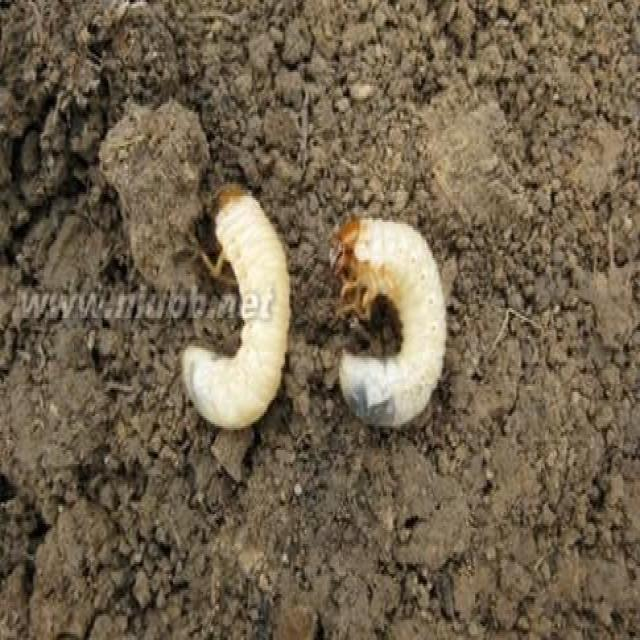grub: (186, 192, 297, 418), (333, 207, 445, 427)
